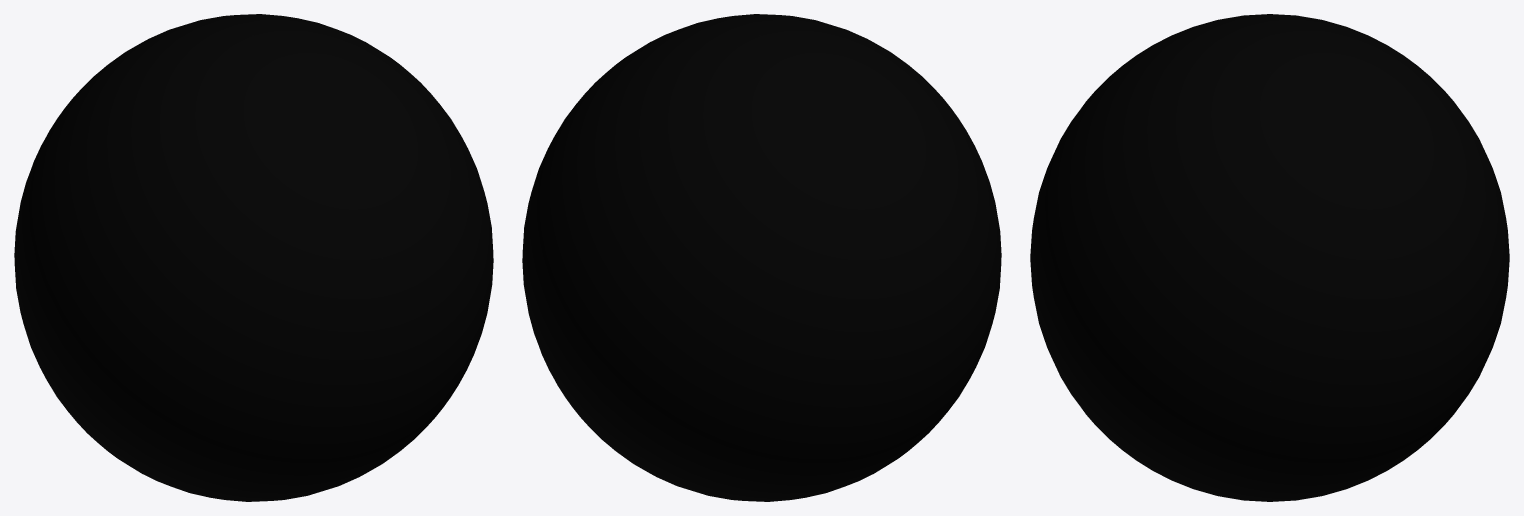
3 views of the same model, side by side, from view 1: azimuth 30°, elevation 25°; view 2: azimuth 150°, elevation 25°; view 3: azimuth 270°, elevation 25° (orthographic).
Parts seen in each view (by area): view 1: mesh_id43; view 2: mesh_id43; view 3: mesh_id43.
Boxes of the visible parts, x1=… form: mesh_id43: x1=14, y1=14, x2=493, y2=501; mesh_id43: x1=522, y1=14, x2=1001, y2=501; mesh_id43: x1=1030, y1=14, x2=1509, y2=501.
Bounding box in the file's own units: 0.602 × 0.6153 × 0.602.
1 material, 1 textured.
